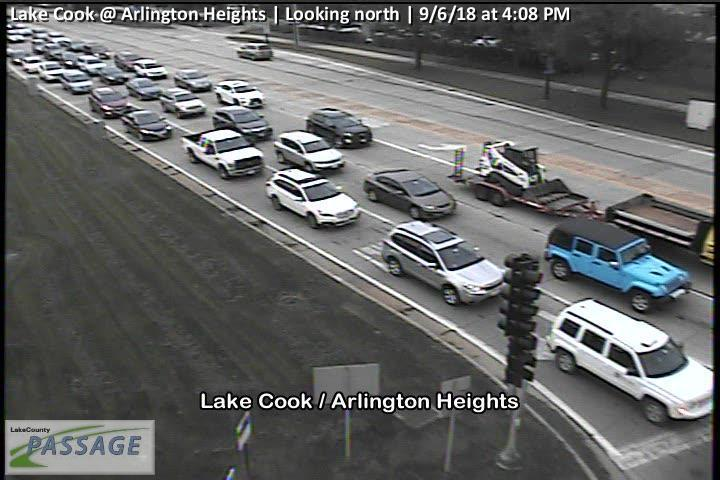SUV: (546, 298, 714, 425), (544, 216, 692, 314), (382, 220, 504, 306), (265, 168, 360, 229), (274, 130, 345, 172), (306, 108, 373, 148), (212, 105, 272, 140), (159, 87, 206, 119), (216, 78, 264, 108), (89, 87, 126, 118), (174, 68, 211, 91), (59, 69, 93, 94), (133, 58, 167, 78), (238, 43, 272, 62), (76, 55, 106, 76), (37, 61, 63, 81), (115, 51, 138, 71)
Sedan: (364, 168, 457, 220), (120, 109, 172, 141), (125, 78, 160, 100), (99, 66, 128, 84), (21, 56, 44, 74)
Truck: (447, 140, 604, 220), (606, 193, 720, 272), (180, 127, 265, 178)
